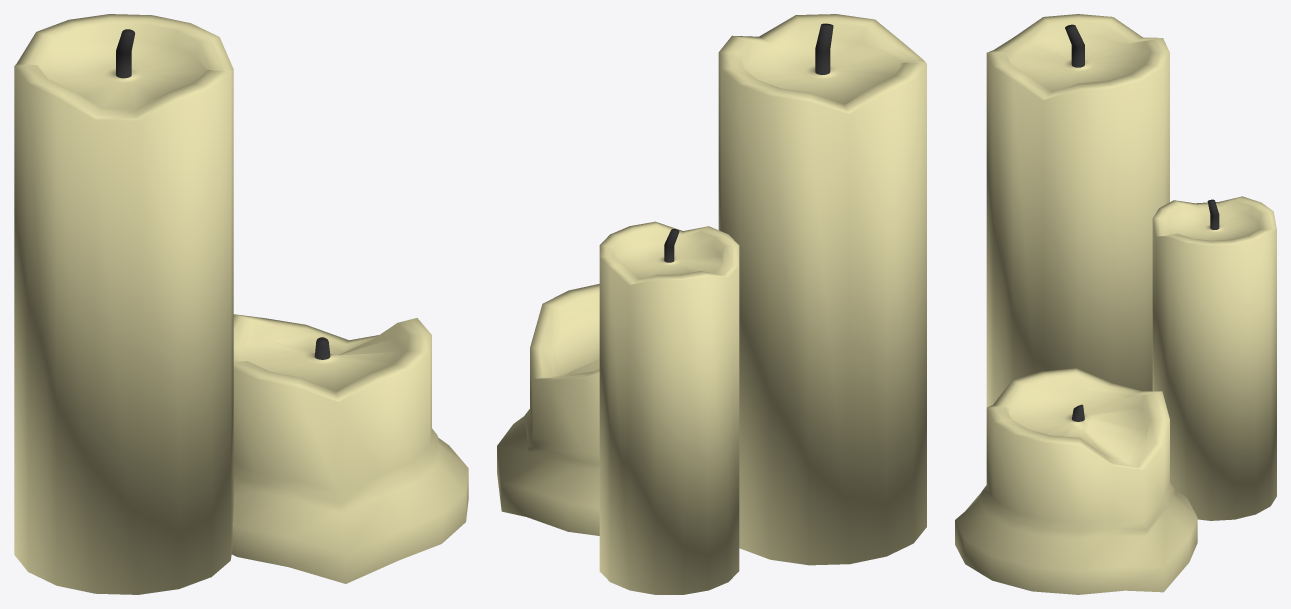
File: candles.fbx
3 views of the same model, side by side, from view 1: azimuth 30°, elevation 25°; view 2: azimuth 150°, elevation 25°; view 3: azimuth 270°, elevation 25° (orthographic). The views are drawn at different scales.
Parts seen in each view (by area): view 1: Candles; view 2: Candles; view 3: Candles.
Boxes of the visible parts, <box> form: Candles: <box>14,14,468,594</box>; Candles: <box>497,14,926,594</box>; Candles: <box>955,14,1276,594</box>.
Size of the model in its own units: 17.37 by 13.85 by 21.36.
